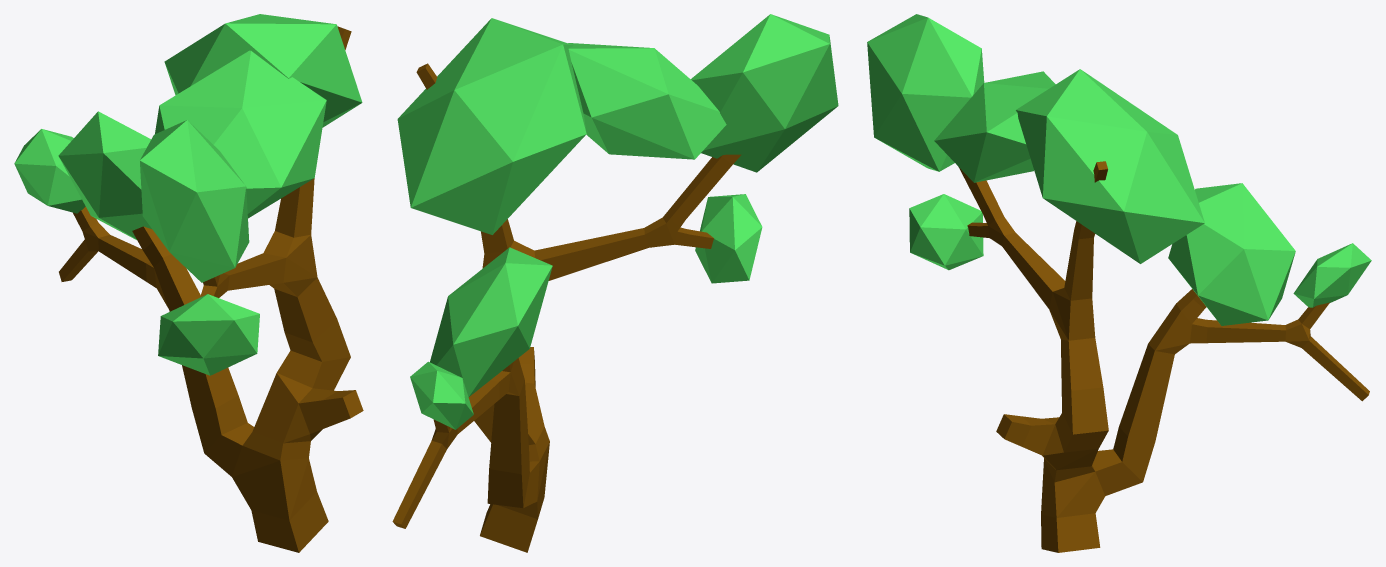
File: Tree.fbx
3 renders of one model, left to right at view 1: azimuth 30°, elevation 25°; view 2: azimuth 150°, elevation 25°; view 3: azimuth 270°, elevation 25°, orthographic. The views are drawn at different scales.
Parts seen in each view (by area): view 1: Icosphere.003; view 2: Icosphere.003; view 3: Icosphere.003.
Part boxes in pixels (x1,y1,x2,y2): Icosphere.003: (14,14,363,552); Icosphere.003: (392,14,838,552); Icosphere.003: (867,14,1371,552).
Size of the model in its own units: 259 by 403 by 401.
